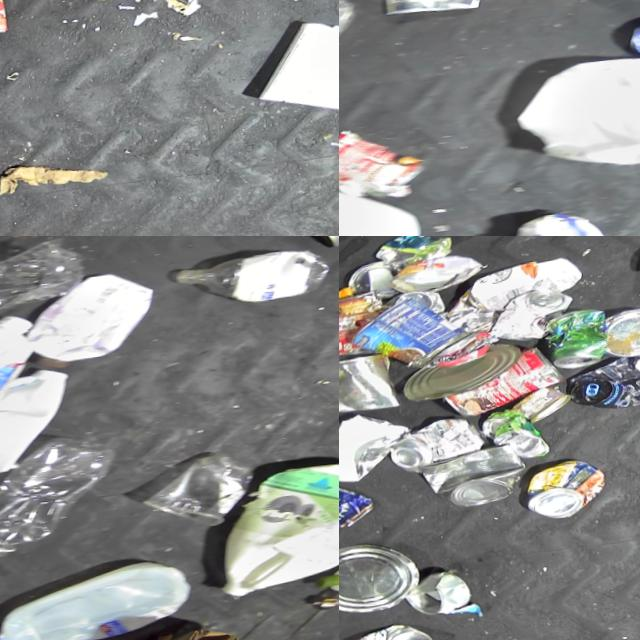can: (344, 295, 468, 378), (436, 347, 561, 421), (413, 444, 524, 514), (339, 125, 424, 210), (398, 345, 518, 403), (339, 537, 418, 617), (384, 416, 482, 476), (520, 462, 603, 525), (484, 291, 573, 348), (565, 354, 640, 418), (385, 255, 482, 298), (541, 314, 606, 377), (477, 410, 546, 466), (339, 351, 398, 416), (397, 570, 464, 620), (339, 290, 380, 361), (507, 388, 568, 429), (378, 0, 482, 24), (343, 260, 398, 303), (601, 308, 640, 364), (339, 470, 373, 529), (339, 620, 432, 640), (381, 291, 443, 321), (298, 236, 339, 264), (623, 21, 640, 73)
milk_jug: (510, 59, 640, 189), (0, 567, 195, 640), (0, 369, 73, 491), (339, 172, 418, 236)
non_white_jug: (200, 463, 339, 607)
plastic_bottle: (0, 445, 111, 560)
